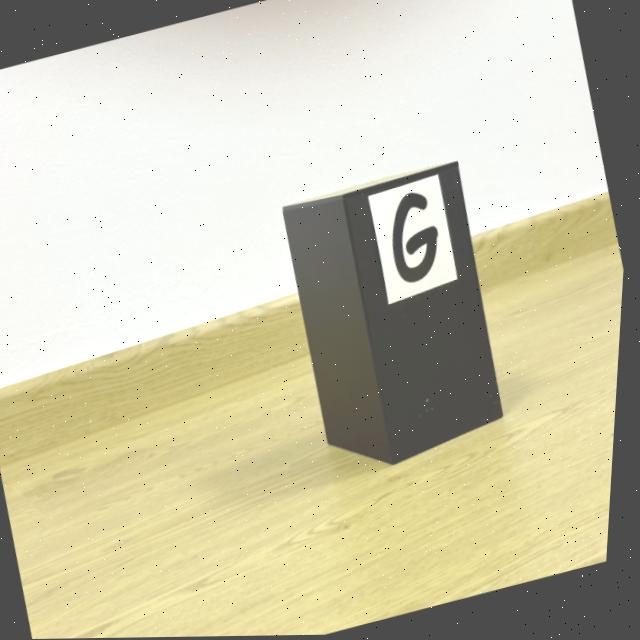G: (395, 193, 441, 283)
